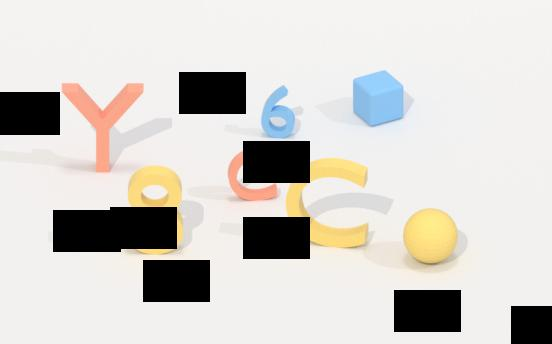6: (260, 82, 298, 142)
8: (124, 161, 187, 258)
Y-hoa: (60, 75, 147, 177)
c: (284, 155, 376, 256), (226, 142, 279, 209)
cau: (401, 203, 463, 268)
hop: (348, 70, 407, 130)
